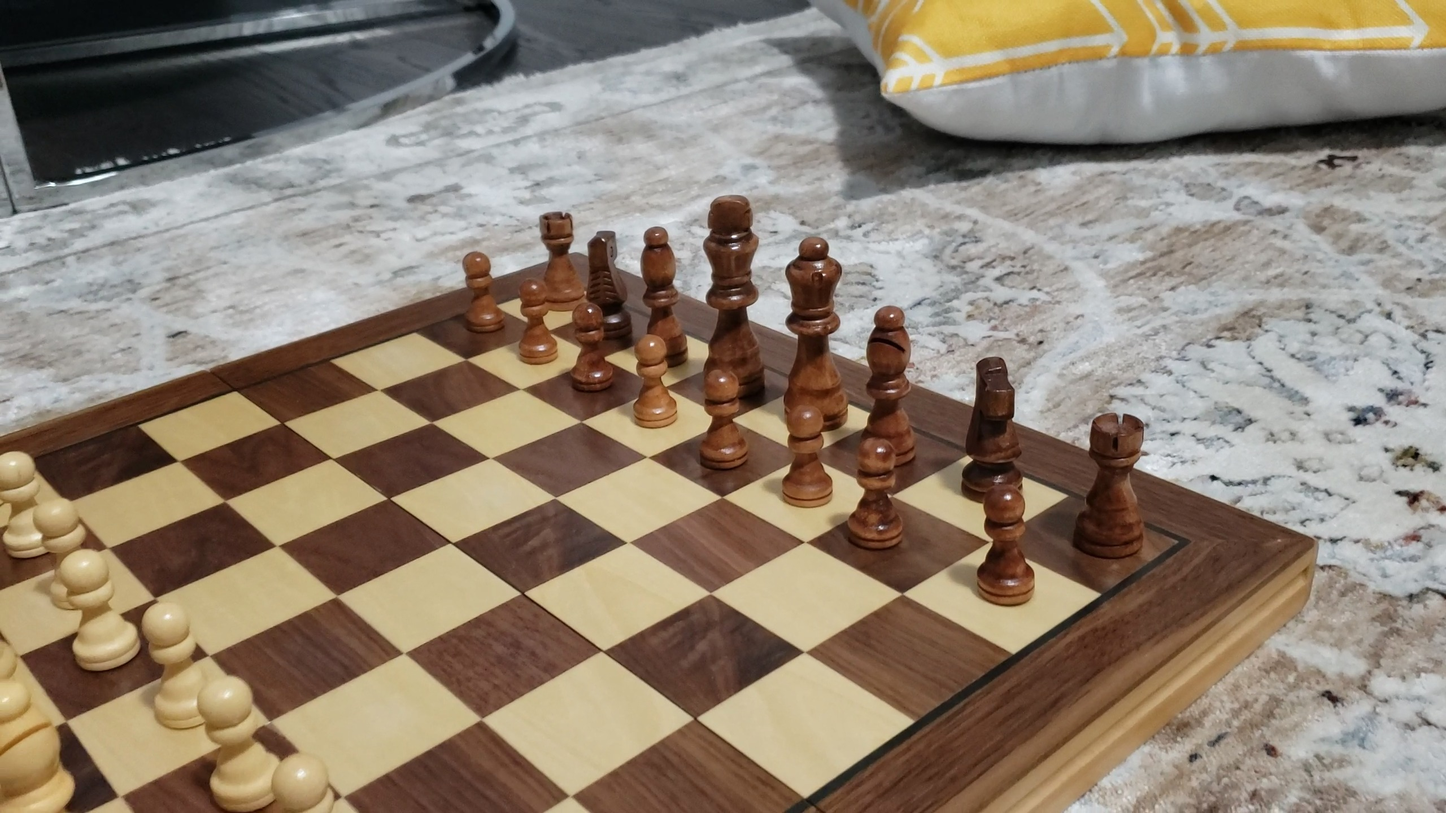black-bishop: (864, 301, 917, 464), (641, 224, 682, 362)
black-king: (700, 190, 765, 400)
black-knight: (961, 355, 1021, 495), (586, 229, 630, 343)
black-pawn: (977, 480, 1033, 606), (846, 436, 904, 551), (781, 402, 831, 508), (699, 365, 747, 471), (633, 331, 676, 430), (570, 298, 612, 392), (516, 277, 558, 364), (460, 248, 502, 333)
black-queen: (781, 230, 848, 428)
black-rook: (1075, 410, 1147, 560), (537, 209, 582, 308)
white-bishop: (0, 671, 79, 812)
white-pawn: (194, 672, 282, 812), (52, 547, 141, 676), (139, 599, 210, 733), (1, 449, 53, 562)
